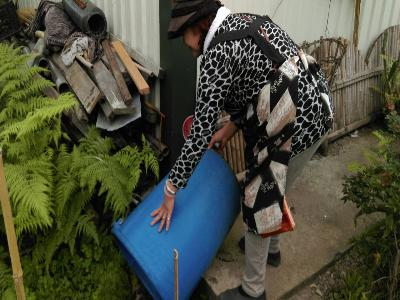bottle: (60, 1, 108, 41)
bucket: (105, 142, 243, 299)
